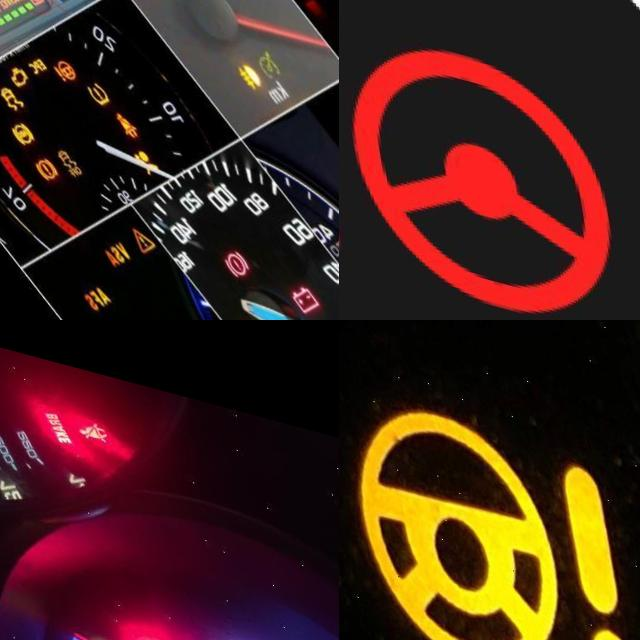Electronic Power Steering: (339, 0, 615, 320), (44, 49, 68, 77)
Electronic Power Steering Warning: (339, 364, 624, 640)
Seat Belt: (73, 404, 116, 442), (103, 99, 132, 132)
